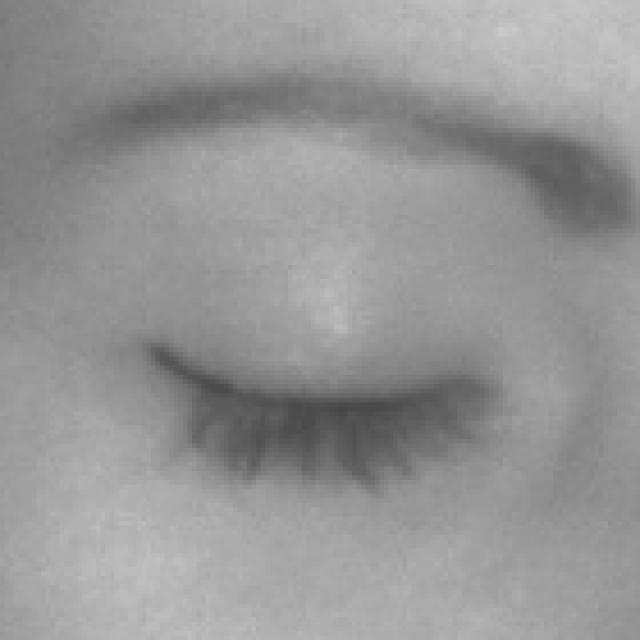close: (0, 45, 640, 579)
